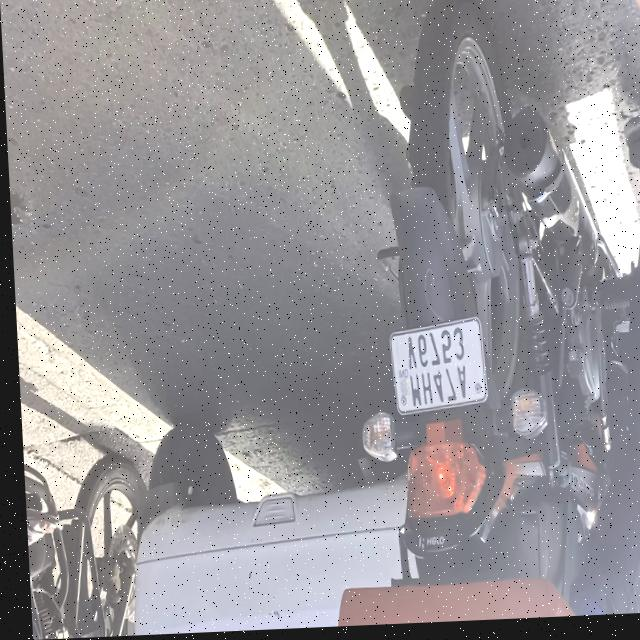plate: (383, 320, 484, 422)
